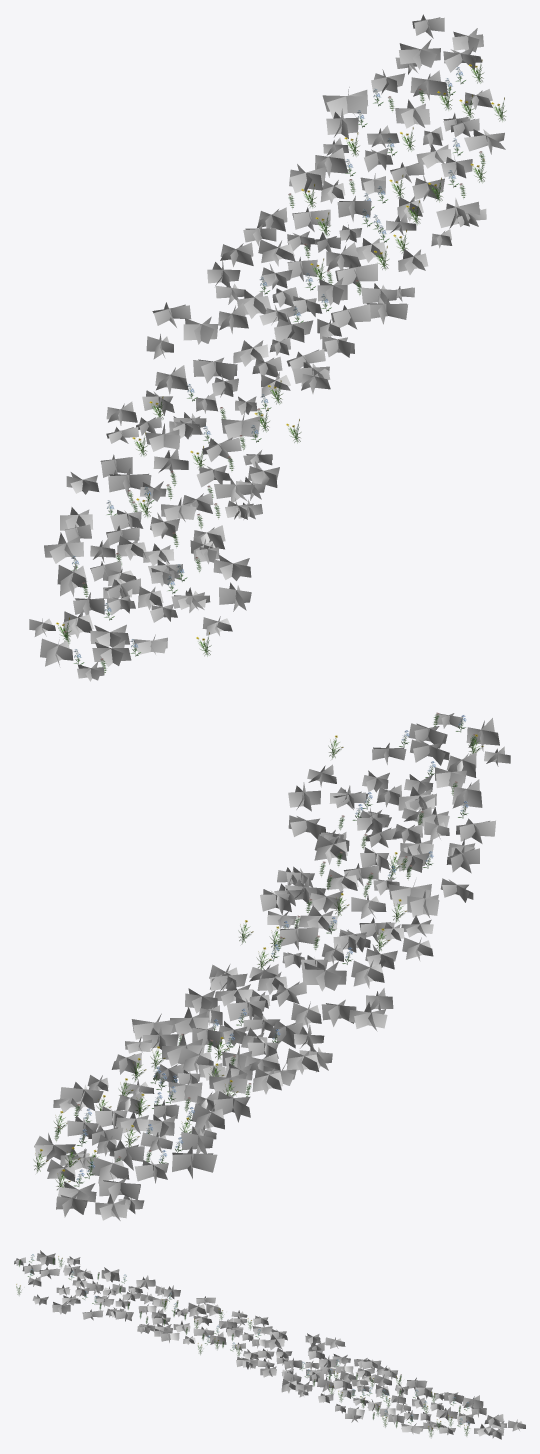
File: flowers_grass_c.glb
3 renders of one model, top to bottom at view 1: azimuth 30°, elevation 25°; view 2: azimuth 210°, elevation 25°; view 3: azimuth 270°, elevation 25°, orthographic. The views are drawn at different scales.
Visible parts, largest first — view 1: stk_grassAlpha.png__, BlackEyedSusan.png__, Flower3.png__, Flower5.png__, Flower3F.png__; view 2: stk_grassAlpha.png__, BlackEyedSusan.png__, Flower3.png__, Flower5.png__, Flower3F.png__; view 3: stk_grassAlpha.png__, BlackEyedSusan.png__, Flower3.png__, Flower5.png__.
Part boxes in pixels (<box>): stk_grassAlpha.png__: <box>29,14,505,681</box>; BlackEyedSusan.png__: <box>56,59,506,656</box>; Flower3.png__: <box>71,67,465,665</box>; Flower5.png__: <box>64,89,485,673</box>; Flower3F.png__: <box>71,66,463,657</box>; stk_grassAlpha.png__: <box>34,713,510,1220</box>; BlackEyedSusan.png__: <box>33,734,483,1190</box>; Flower3.png__: <box>74,715,468,1186</box>; Flower5.png__: <box>54,713,475,1162</box>; Flower3F.png__: <box>76,715,468,1179</box>; stk_grassAlpha.png__: <box>14,1250,525,1439</box>; BlackEyedSusan.png__: <box>16,1256,468,1437</box>; Flower3.png__: <box>27,1255,470,1430</box>; Flower5.png__: <box>18,1257,460,1427</box>.
Size of the model in its own units: 155 by 16.29 by 153.
6 materials, 5 textured.
